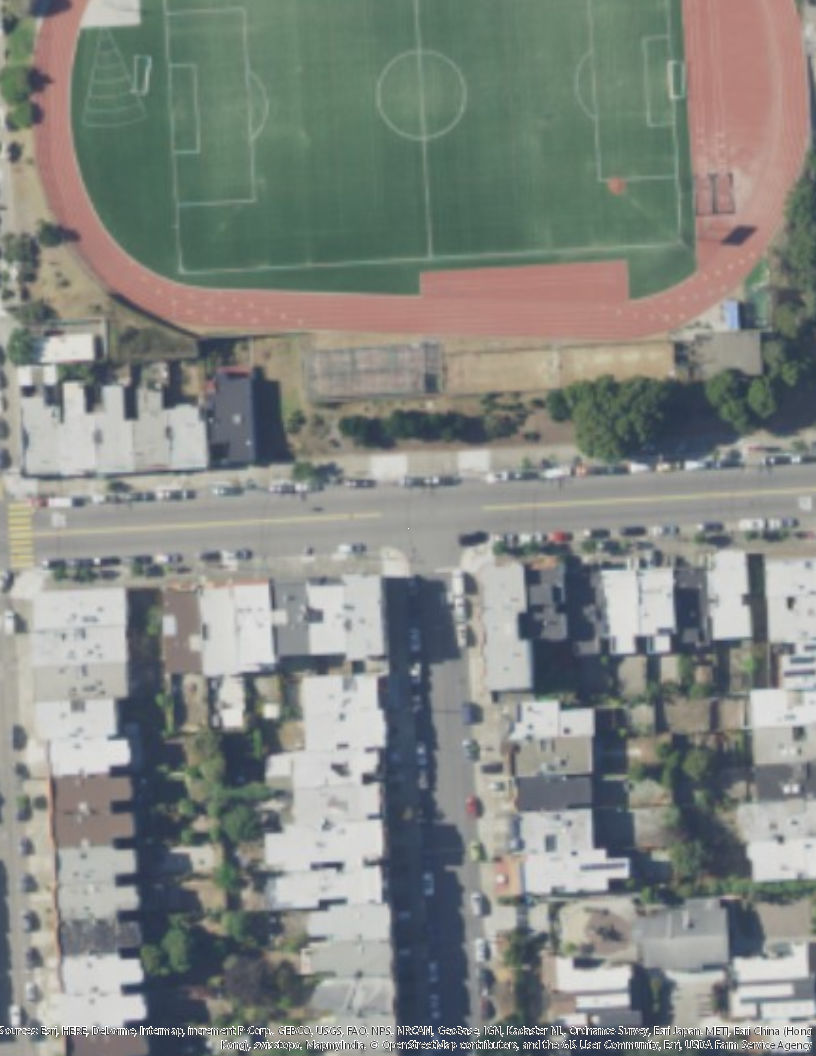zebracross: (7, 498, 34, 567)
